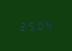five: (27, 20, 35, 31)
four: (45, 19, 53, 30)
two: (18, 20, 26, 31)
zero: (36, 19, 44, 30)
